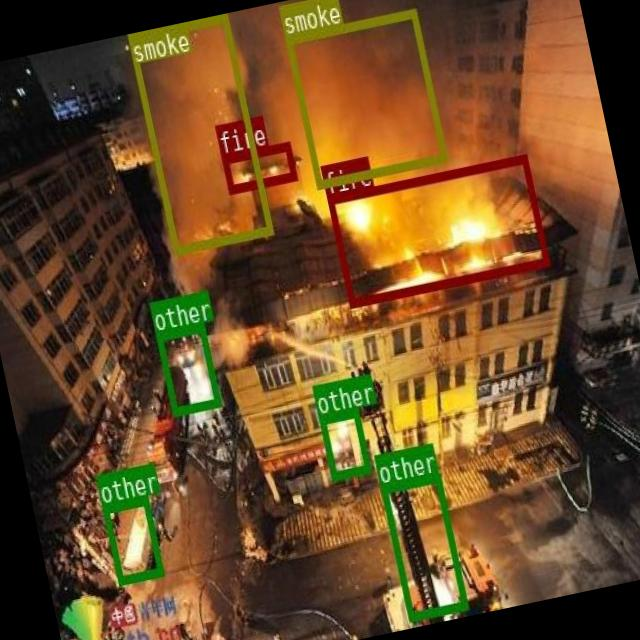fire: (326, 154, 548, 306), (220, 141, 294, 192)
smoke: (126, 13, 272, 252), (284, 7, 446, 187)
